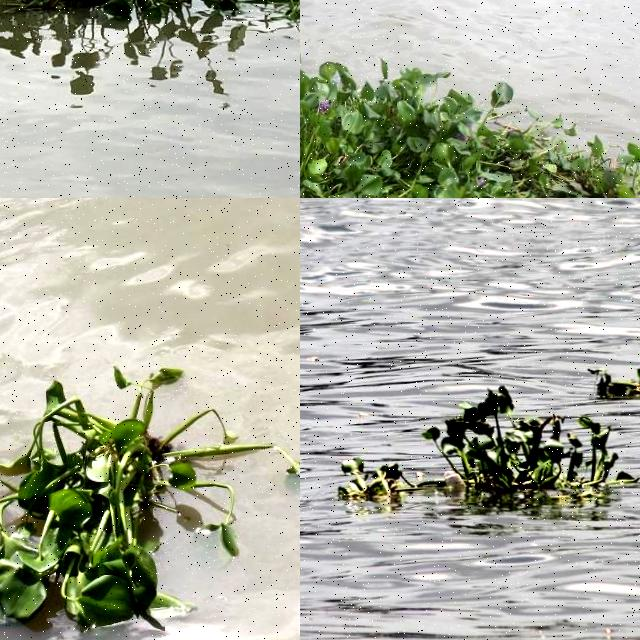water-hyacinth: (1, 357, 301, 640), (301, 1, 640, 199), (425, 386, 639, 502), (1, 1, 301, 67), (327, 447, 409, 510), (595, 350, 640, 406)
